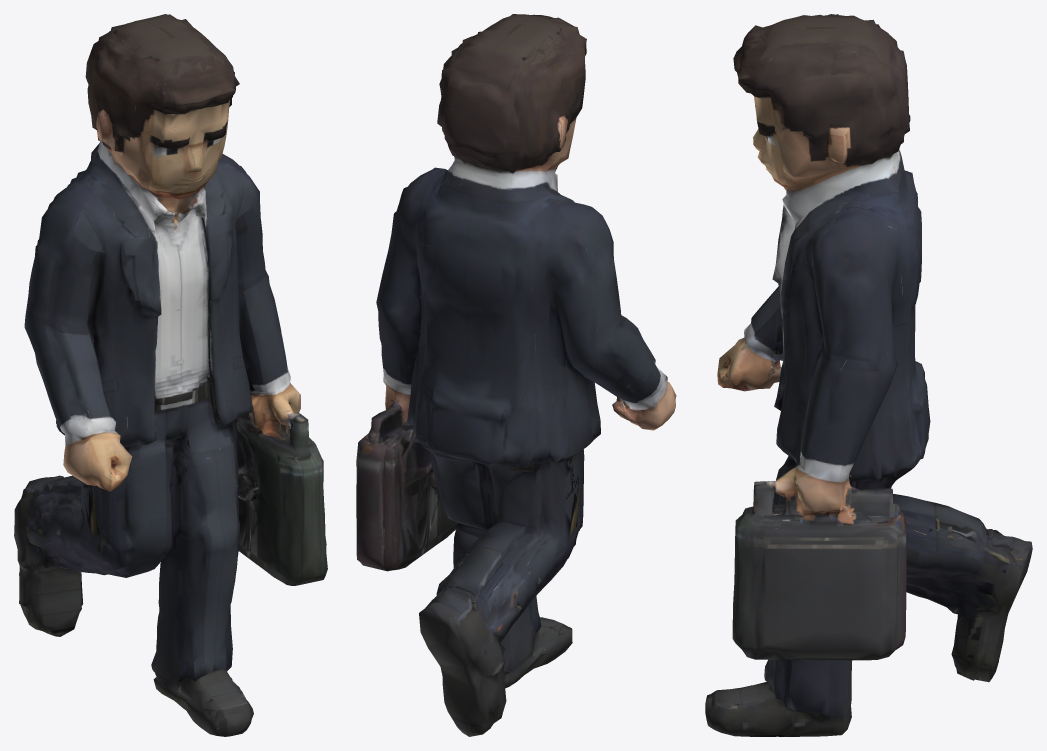
The model's file is office.glb.
The picture shows the model from 3 angles, left to right: view 1: azimuth 30°, elevation 25°; view 2: azimuth 150°, elevation 25°; view 3: azimuth 270°, elevation 25°; orthographic projection. The views are drawn at different scales.
Size of the model in its own units: 0.8083 by 2.01 by 0.8654.
Materials: 1 (1 with a texture image).
